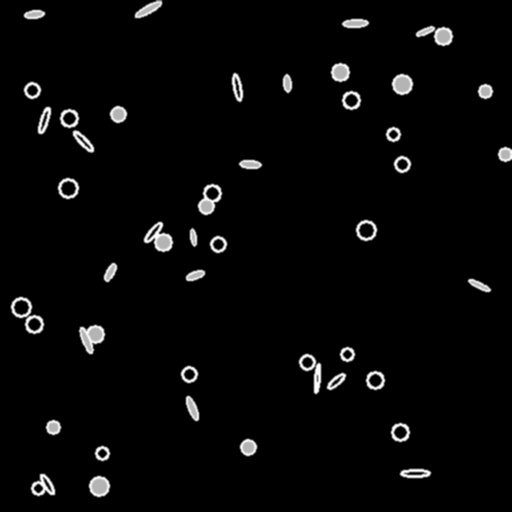pseudomonas: (71, 129, 95, 153), (134, 0, 162, 19), (143, 221, 163, 243), (38, 472, 56, 496), (78, 327, 94, 353), (37, 106, 51, 134), (184, 396, 200, 420), (326, 372, 346, 390), (231, 74, 243, 100), (468, 278, 490, 292), (103, 262, 117, 282), (185, 268, 205, 282), (313, 364, 321, 392), (416, 25, 434, 37), (343, 19, 367, 27), (239, 160, 261, 168), (401, 470, 429, 476), (25, 10, 43, 18), (283, 74, 291, 92), (189, 229, 197, 245)
synechocystis: (12, 298, 30, 316), (90, 477, 108, 495), (393, 75, 411, 93), (357, 221, 375, 239), (59, 179, 77, 197), (61, 110, 77, 126), (204, 185, 220, 201), (392, 424, 408, 440), (332, 64, 348, 80), (26, 316, 42, 332), (155, 234, 171, 250), (435, 28, 451, 44), (87, 326, 103, 342), (343, 92, 359, 108), (367, 372, 383, 388), (111, 107, 125, 121), (241, 440, 255, 454), (25, 83, 39, 97), (211, 237, 225, 251), (199, 199, 213, 213), (300, 355, 314, 369), (395, 157, 409, 171), (182, 367, 196, 381), (341, 348, 353, 360), (96, 447, 108, 459), (32, 482, 44, 494), (479, 85, 491, 97), (47, 421, 59, 433), (499, 148, 511, 160), (387, 128, 399, 140)
